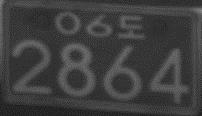0: (53, 10, 81, 35)
2: (11, 37, 54, 96)
4: (149, 46, 189, 104)
6: (102, 42, 142, 102), (85, 12, 113, 39)
8: (57, 40, 98, 98)
도: (116, 14, 145, 39)
